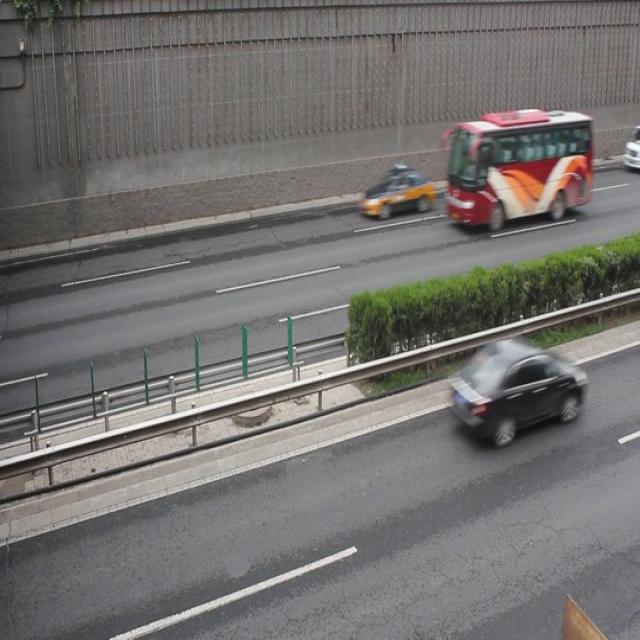car: (450, 332, 585, 442), (358, 166, 433, 218)
van: (445, 110, 591, 226)
